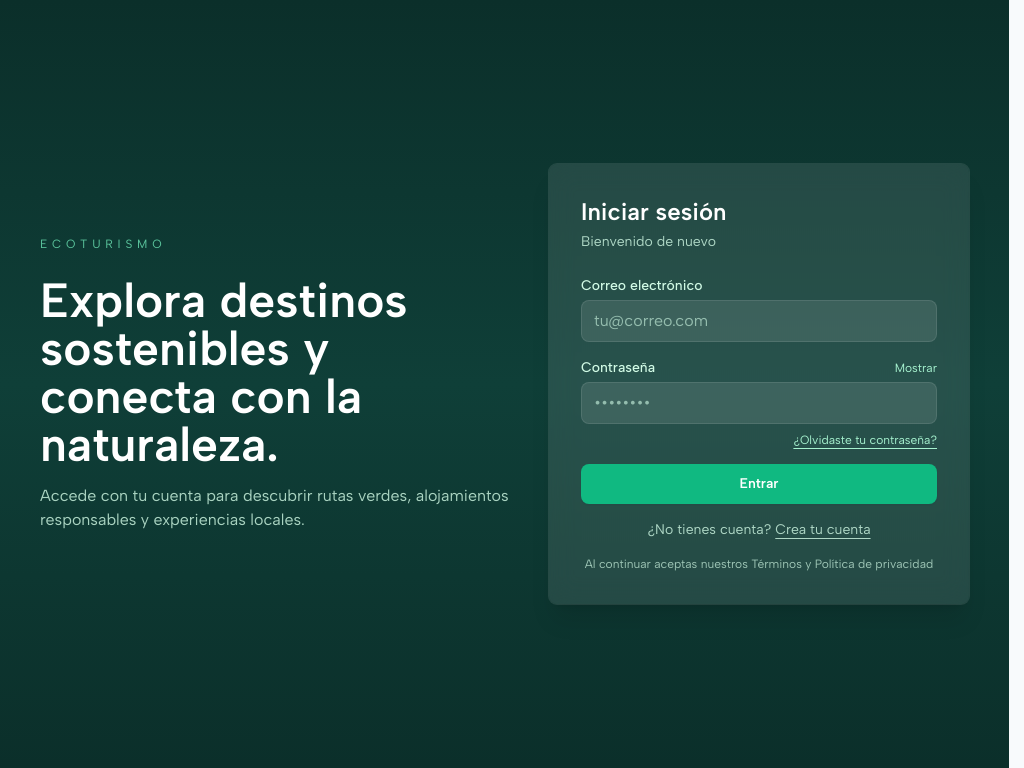
LoginPage › shows error message on failed login
This screenshot has width=1024, height=768.
Type "test@example.com" into the field labelled "Correo electrónico" at (759, 321), box [581,300,937,342]
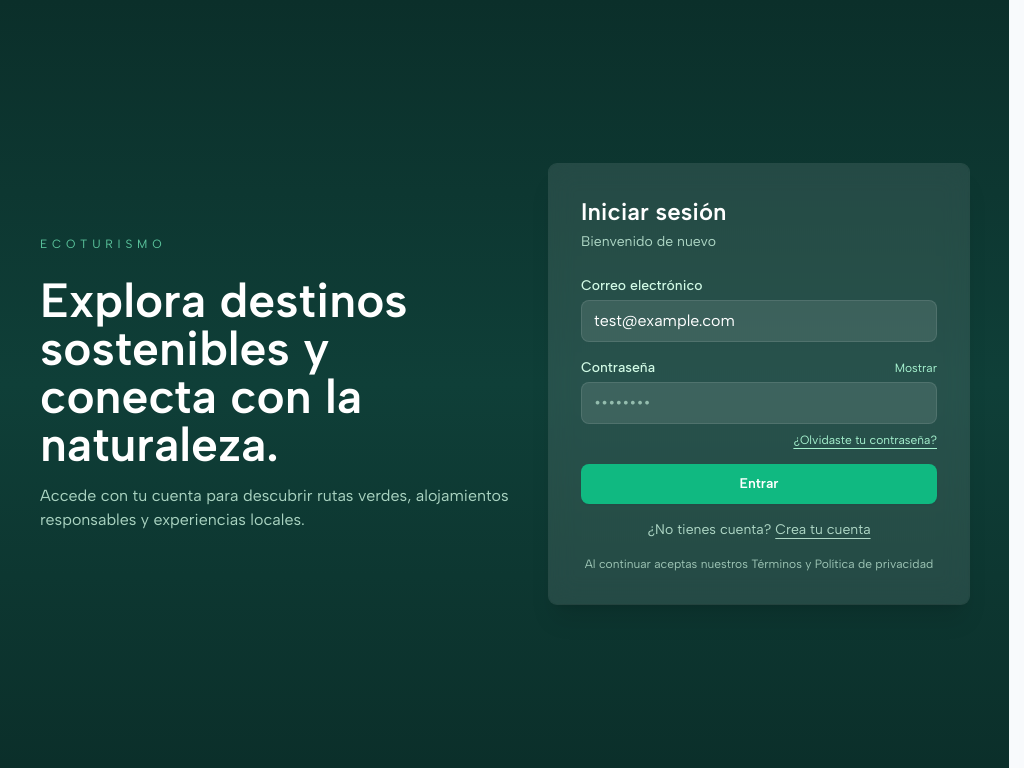
Type "wrongpassword" into the password field labelled "Contraseña" at (759, 403), box [581,382,937,424]
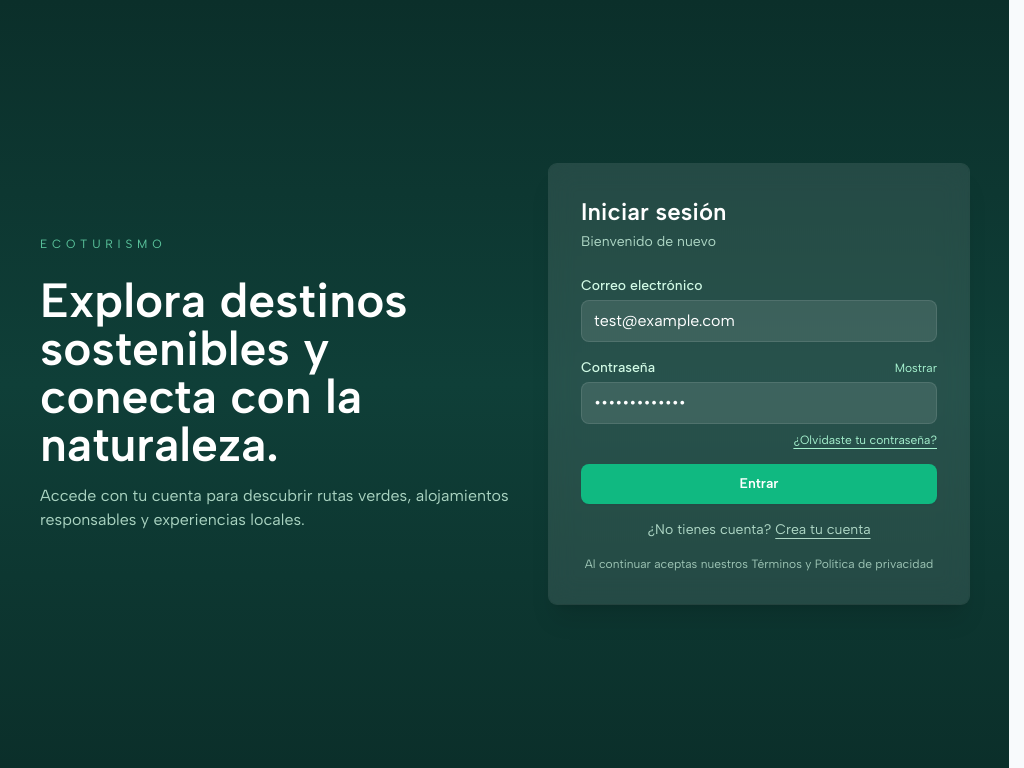
Click the button "Entrar" at (759, 484), box [581,464,937,504]
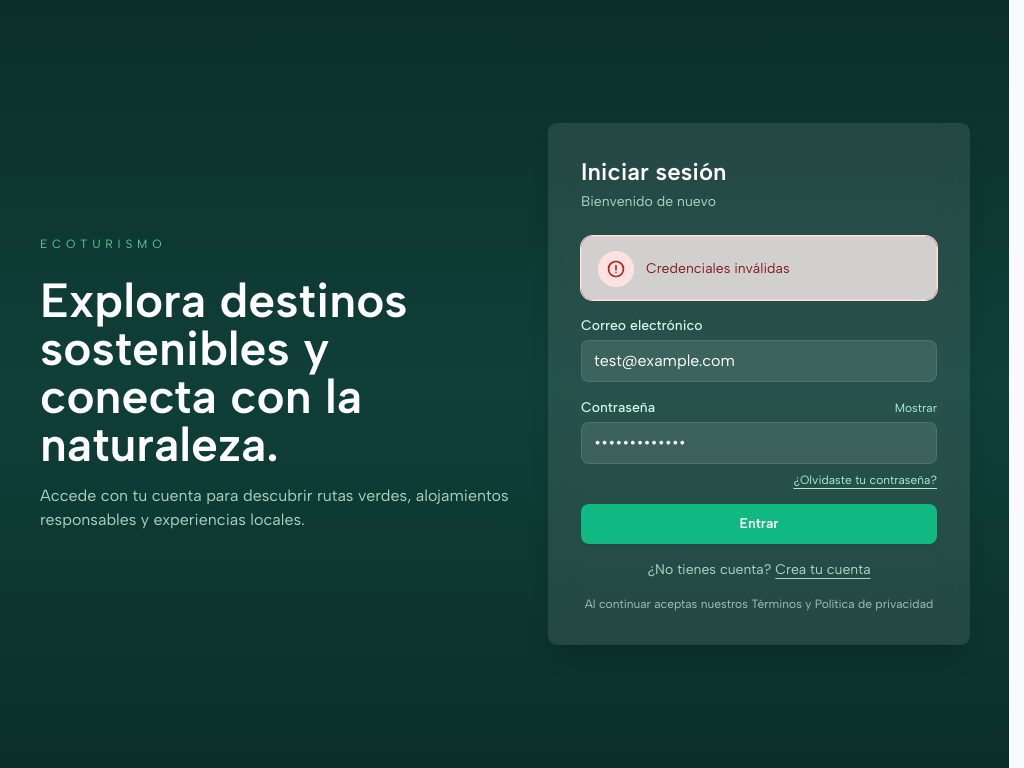
Check: the text "Credenciales inválidas" is shown, box [646,259,790,279]
